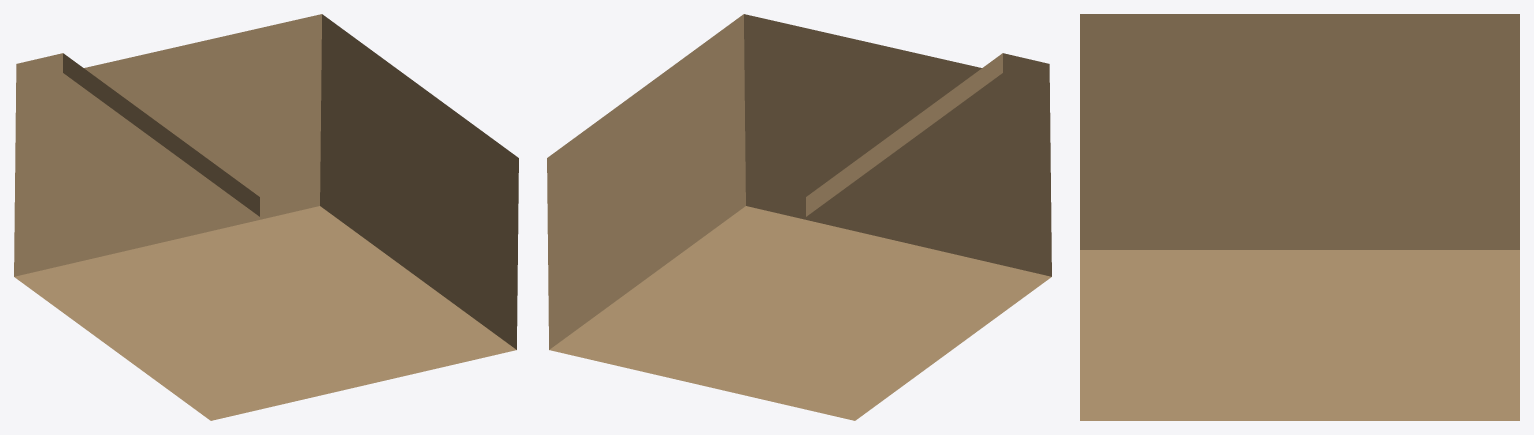
The picture shows the model from 3 angles, left to right: view 1: azimuth 30°, elevation 25°; view 2: azimuth 150°, elevation 25°; view 3: azimuth 270°, elevation 25°; orthographic projection. The views are drawn at different scales.
Parts seen in each view (by area): view 1: 0_0_1_3_2_2_2_2_0; view 2: 0_0_1_3_2_2_2_2_0; view 3: 0_0_1_3_2_2_2_2_0.
Boxes of the visible parts, x1,y1,x2,y2 form: 0_0_1_3_2_2_2_2_0: (14, 14, 518, 420); 0_0_1_3_2_2_2_2_0: (547, 14, 1051, 420); 0_0_1_3_2_2_2_2_0: (1080, 14, 1519, 420).
Size of the model in its own units: 18.97 by 12.72 by 21.
